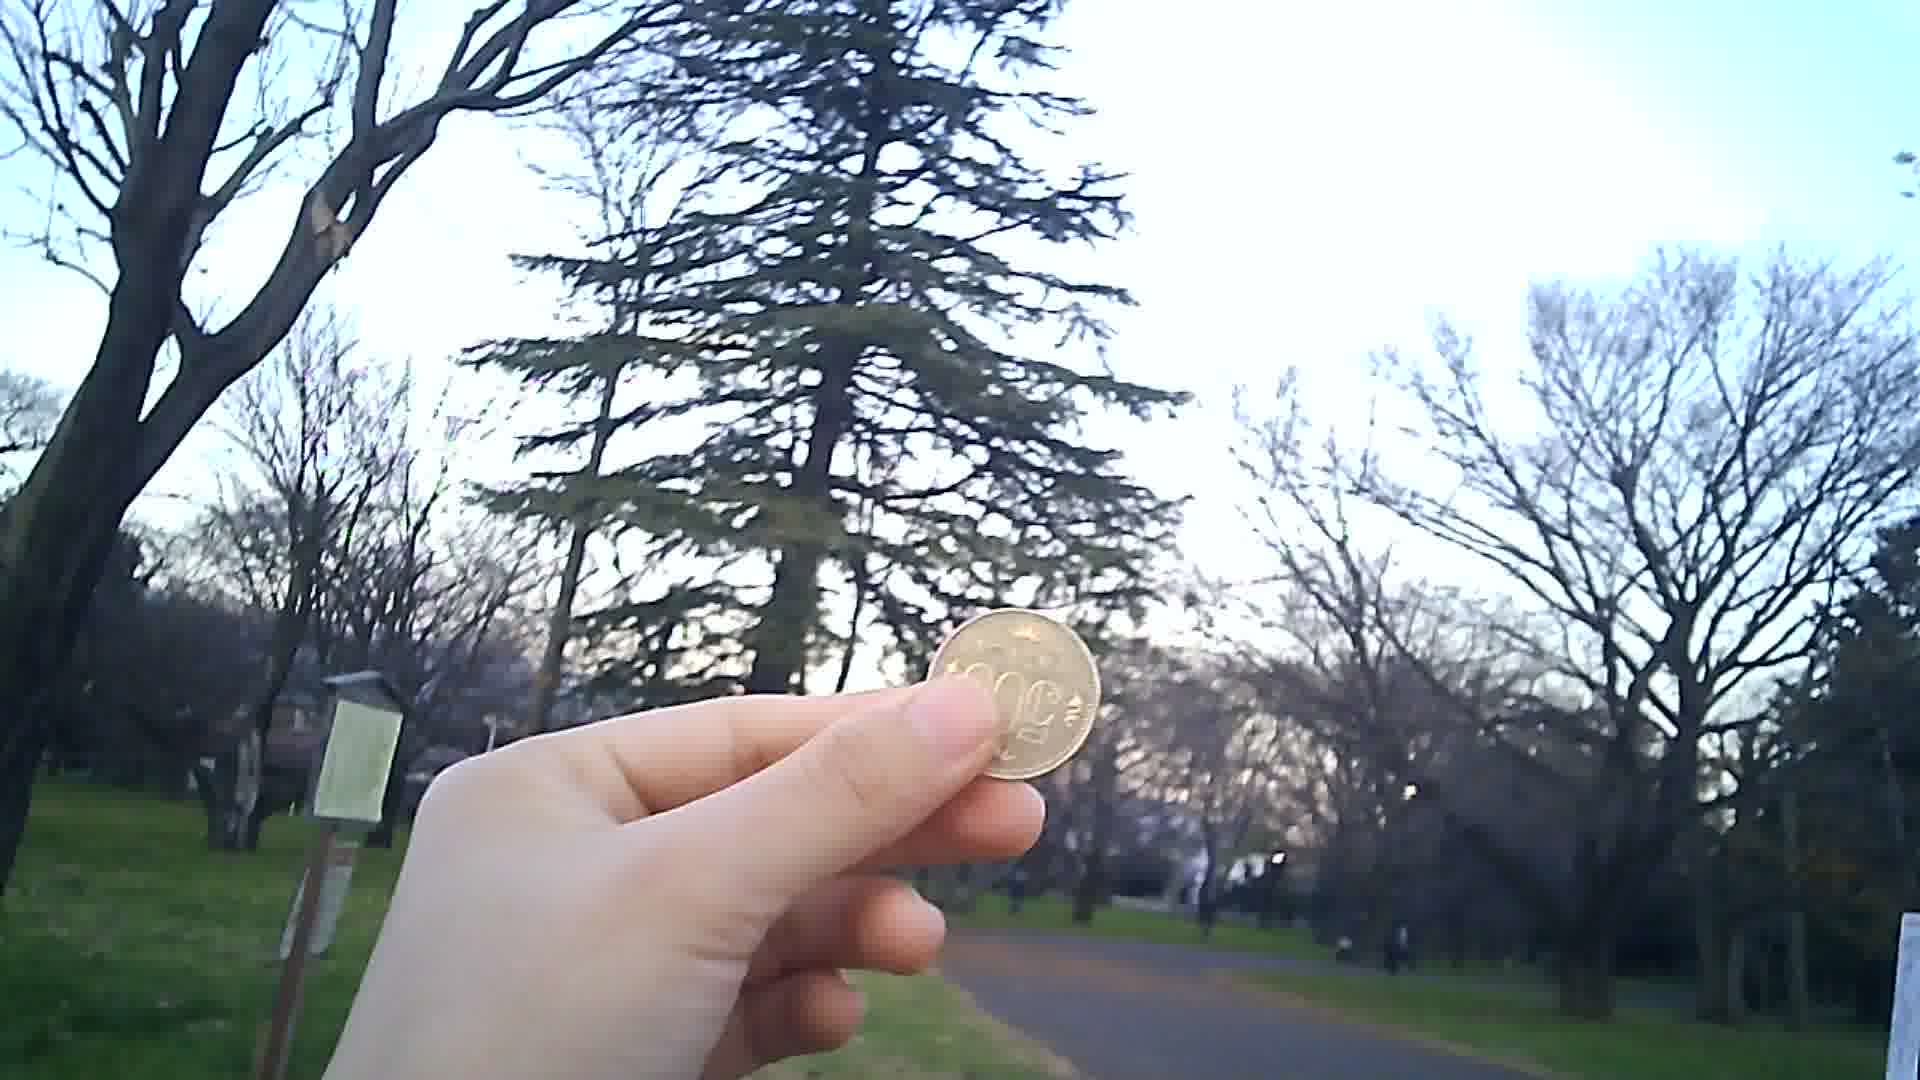500 Yen: (918, 603, 1097, 782)
